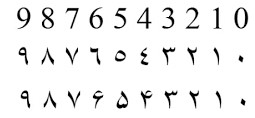character: (183, 3, 208, 37), (229, 4, 253, 37), (38, 87, 64, 115), (63, 3, 85, 34), (11, 2, 32, 33), (86, 3, 107, 34), (37, 2, 57, 34), (64, 88, 85, 118), (110, 4, 130, 35), (136, 85, 158, 113), (157, 5, 178, 34), (111, 86, 132, 115), (160, 41, 179, 73), (208, 3, 226, 35), (183, 44, 206, 69), (110, 43, 132, 69), (61, 43, 83, 69), (161, 85, 180, 114), (16, 88, 36, 115), (186, 84, 204, 114), (87, 87, 106, 114), (34, 46, 55, 69), (137, 3, 153, 33), (212, 85, 229, 113), (88, 42, 103, 70), (138, 43, 153, 70), (209, 46, 225, 70), (16, 46, 31, 70), (237, 90, 250, 114), (234, 50, 248, 72)
